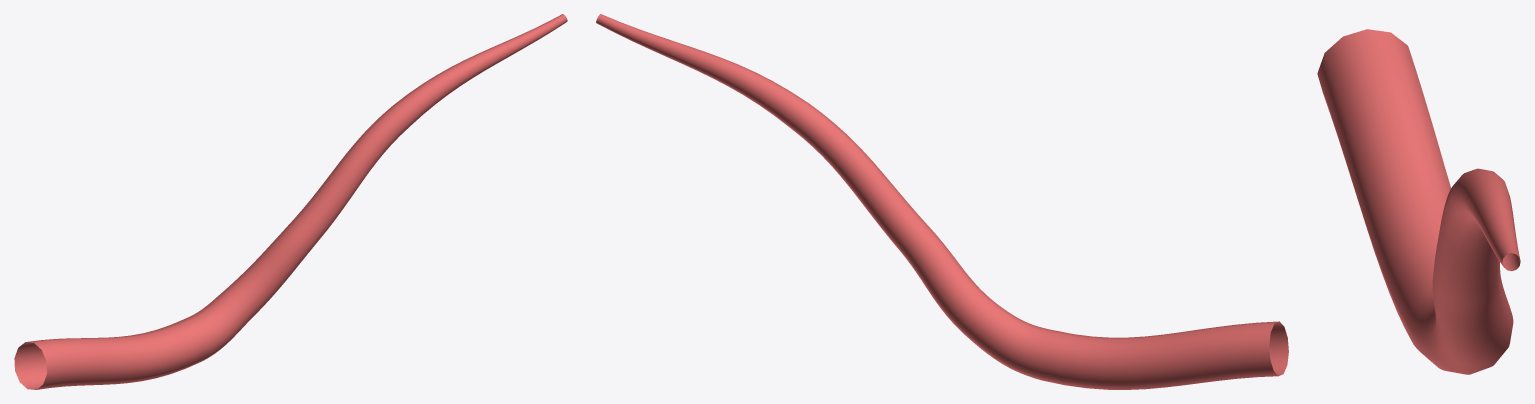
The model's file is Acromial_branch_of_thoraco-acromial_artery.l_BezierCurve.148.glb.
The picture shows the model from 3 angles, left to right: view 1: azimuth 30°, elevation 25°; view 2: azimuth 150°, elevation 25°; view 3: azimuth 270°, elevation 25°; orthographic projection. The views are drawn at different scales.
Parts seen in each view (by area): view 1: Acromial_branch_of_thoraco-acromial_artery.l_BezierCurve.148; view 2: Acromial_branch_of_thoraco-acromial_artery.l_BezierCurve.148; view 3: Acromial_branch_of_thoraco-acromial_artery.l_BezierCurve.148.
Part boxes in pixels (x1,y1,x2,y2): Acromial_branch_of_thoraco-acromial_artery.l_BezierCurve.148: (14, 14, 567, 389); Acromial_branch_of_thoraco-acromial_artery.l_BezierCurve.148: (596, 14, 1288, 389); Acromial_branch_of_thoraco-acromial_artery.l_BezierCurve.148: (1317, 29, 1520, 374).
Bounding box in the file's own units: 0.0434 × 0.0175 × 0.00661.
